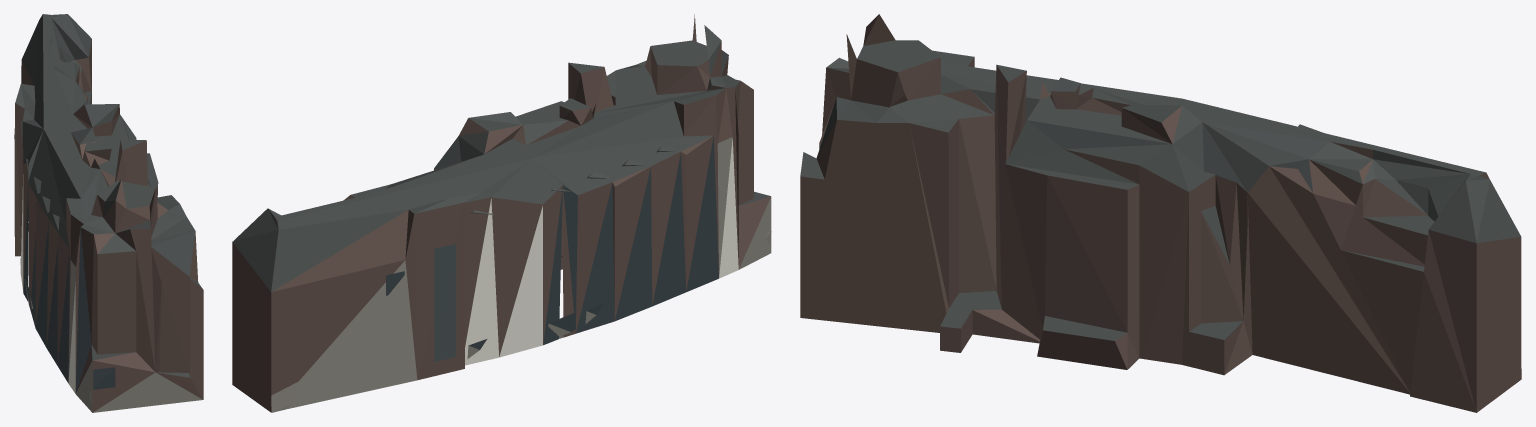
Rendered from sofitel-the-grand-1926.lod2.glb.
The picture shows the model from 3 angles, left to right: view 1: azimuth 30°, elevation 25°; view 2: azimuth 150°, elevation 25°; view 3: azimuth 270°, elevation 25°; orthographic projection. The views are drawn at different scales.
Parts seen in each view (by area): view 1: lod2; view 2: lod2; view 3: lod2.
Boxes of the visible parts, <box> form: lod2: <box>14,14,203,412</box>; lod2: <box>232,14,771,412</box>; lod2: <box>800,14,1521,412</box>.
Size of the model in its own units: 38 by 30.84 by 74.2.
